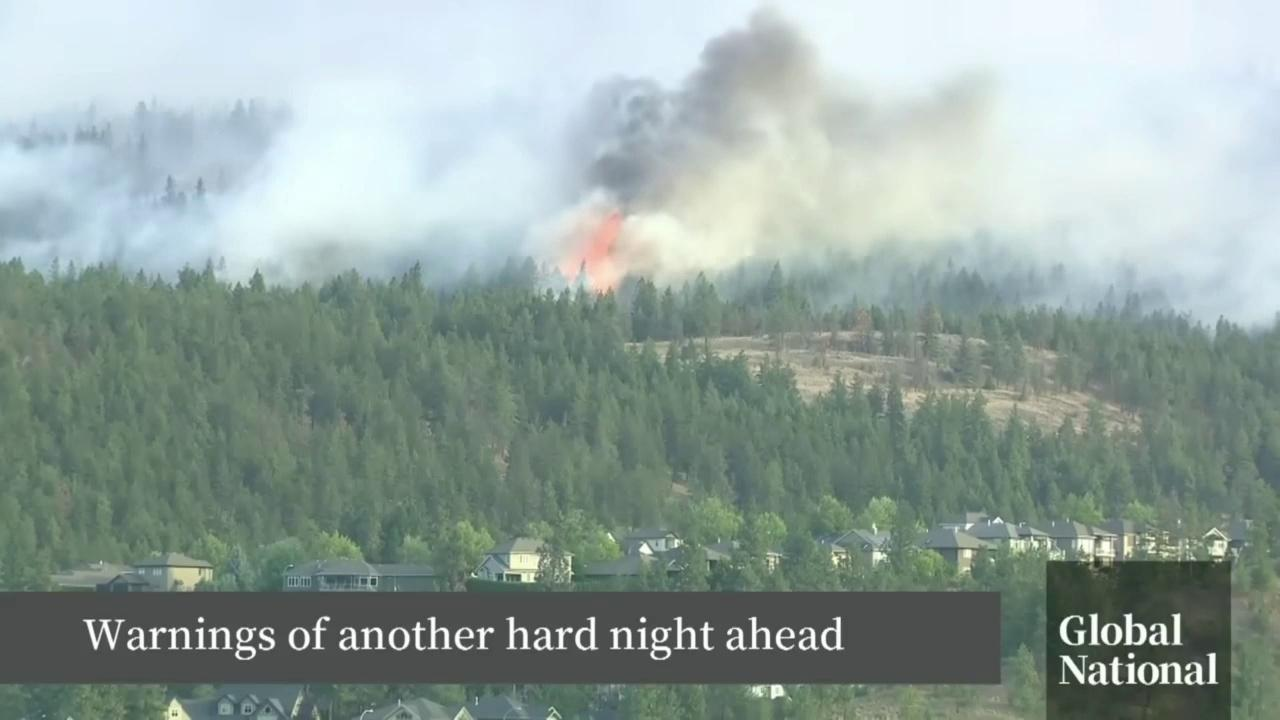fire: (549, 202, 628, 297)
smoke: (0, 0, 1280, 335)
